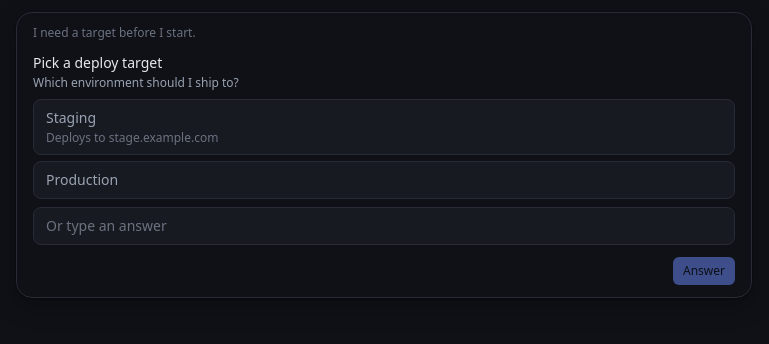
the question panel › keeps the panel and says why when the answer is rejected
Click the radio button labelled "Staging Deploys to stage.example.com": [71, 118] box [33,99,735,155]
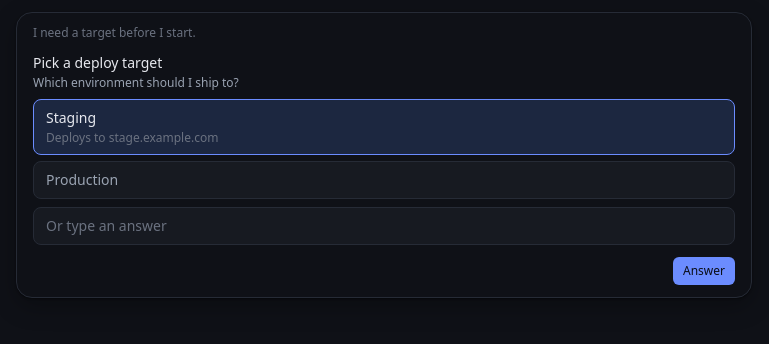
Click the button "Answer": [704, 271] box [673,257,735,285]
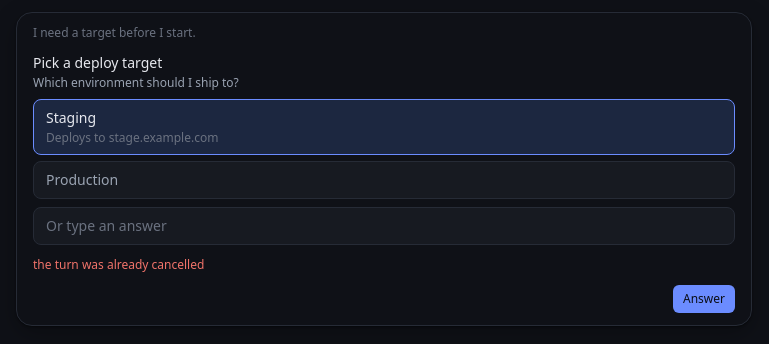
Expected: the text "the turn was already cancelled" is shown, [33,256,204,273]
